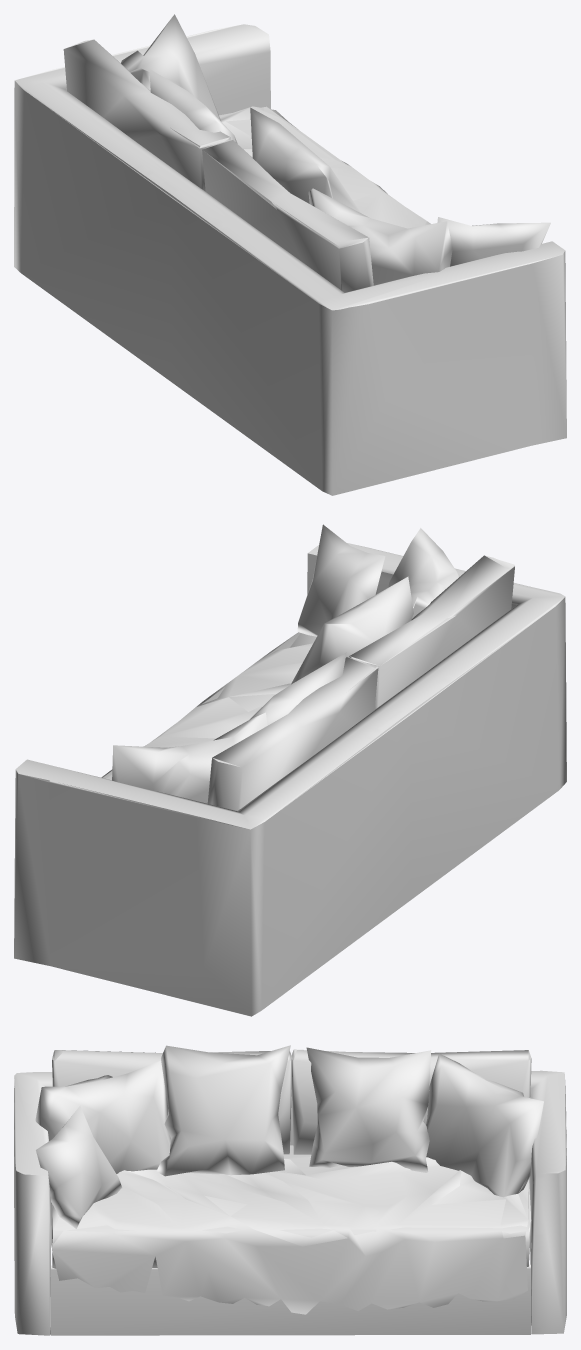
The model's file is M_Sofa0004.obj.
The picture shows the model from 3 angles, top to bottom: view 1: azimuth 30°, elevation 25°; view 2: azimuth 150°, elevation 25°; view 3: azimuth 270°, elevation 25°; orthographic projection. The views are drawn at different scales.
Size of the model in its own units: 0.897 by 0.866 by 1.95.
Materials: 1 (1 with a texture image).
